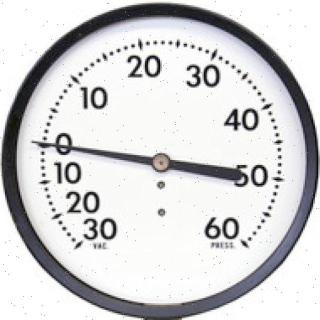gauge: (0, 0, 320, 320), (63, 215, 125, 265), (226, 225, 253, 255), (150, 151, 172, 173), (26, 135, 50, 153)
